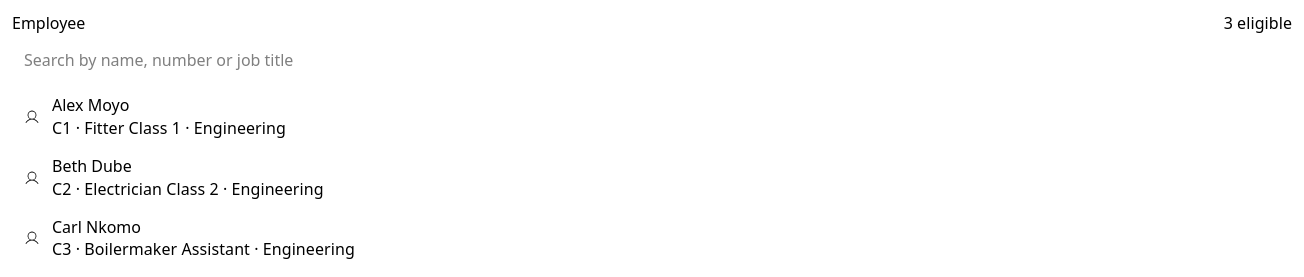
Test case: EmployeePicker › takes the top match with Tab or Enter and keeps the whole list in view with that person ticked
The width and height of the screenshot is (1304, 277).
Type "be" into the dropdown labelled "Employee" at (652, 60), box [12,40,1292,80]
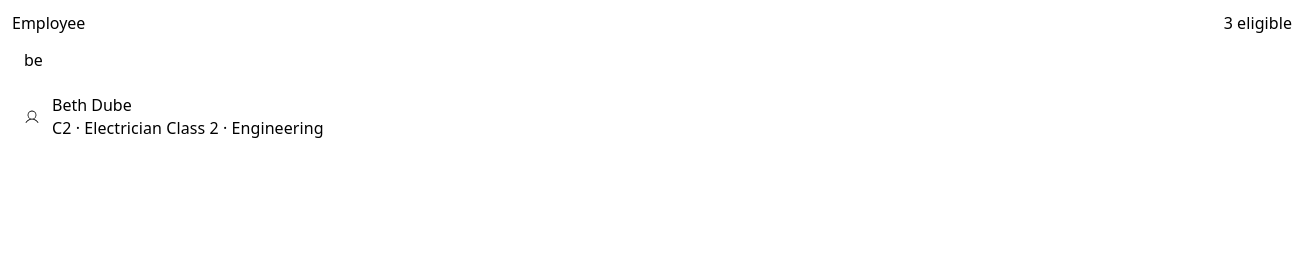
Press Tab
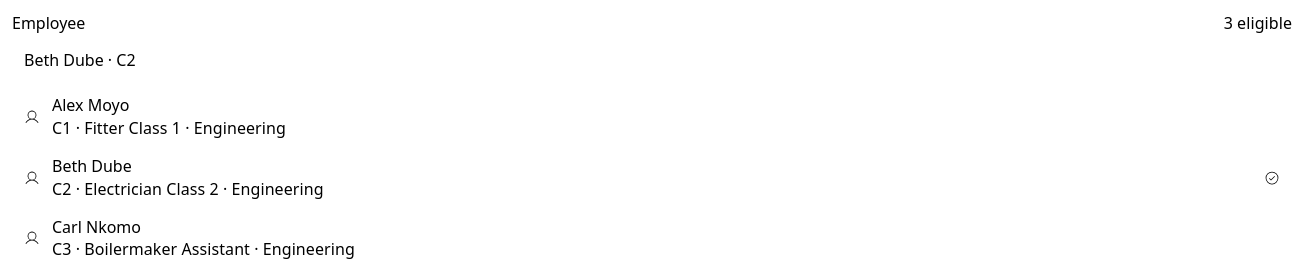
Check: the dropdown labelled "Employee" holds "Beth Dube · C2", box [12,40,1292,80]
Check: the number of options is 3, box [24,94,286,139]; [12,147,1292,208]; [24,216,355,260]
